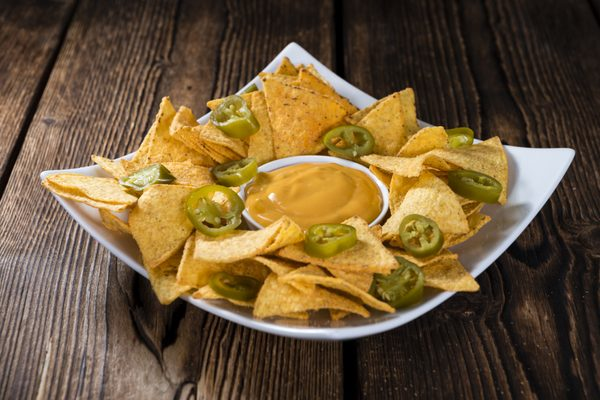soup: (422, 135, 511, 204)
